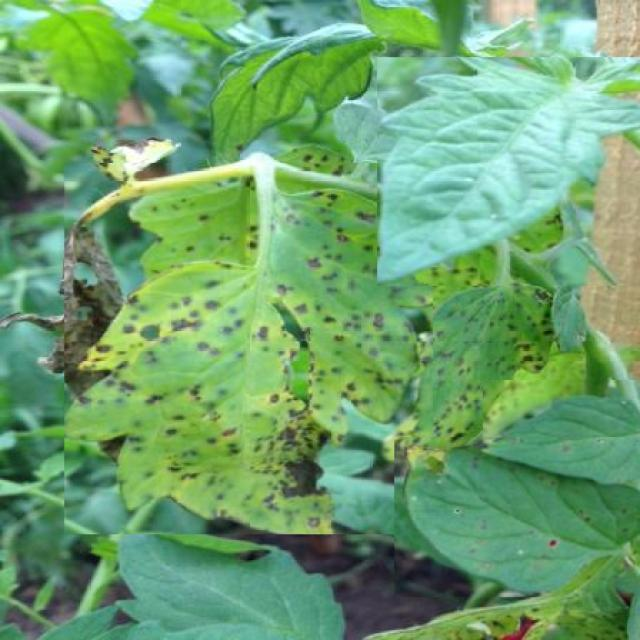Healthy: (378, 58, 640, 286)
Septoria: (65, 162, 434, 534), (394, 437, 640, 597), (483, 381, 640, 489)
